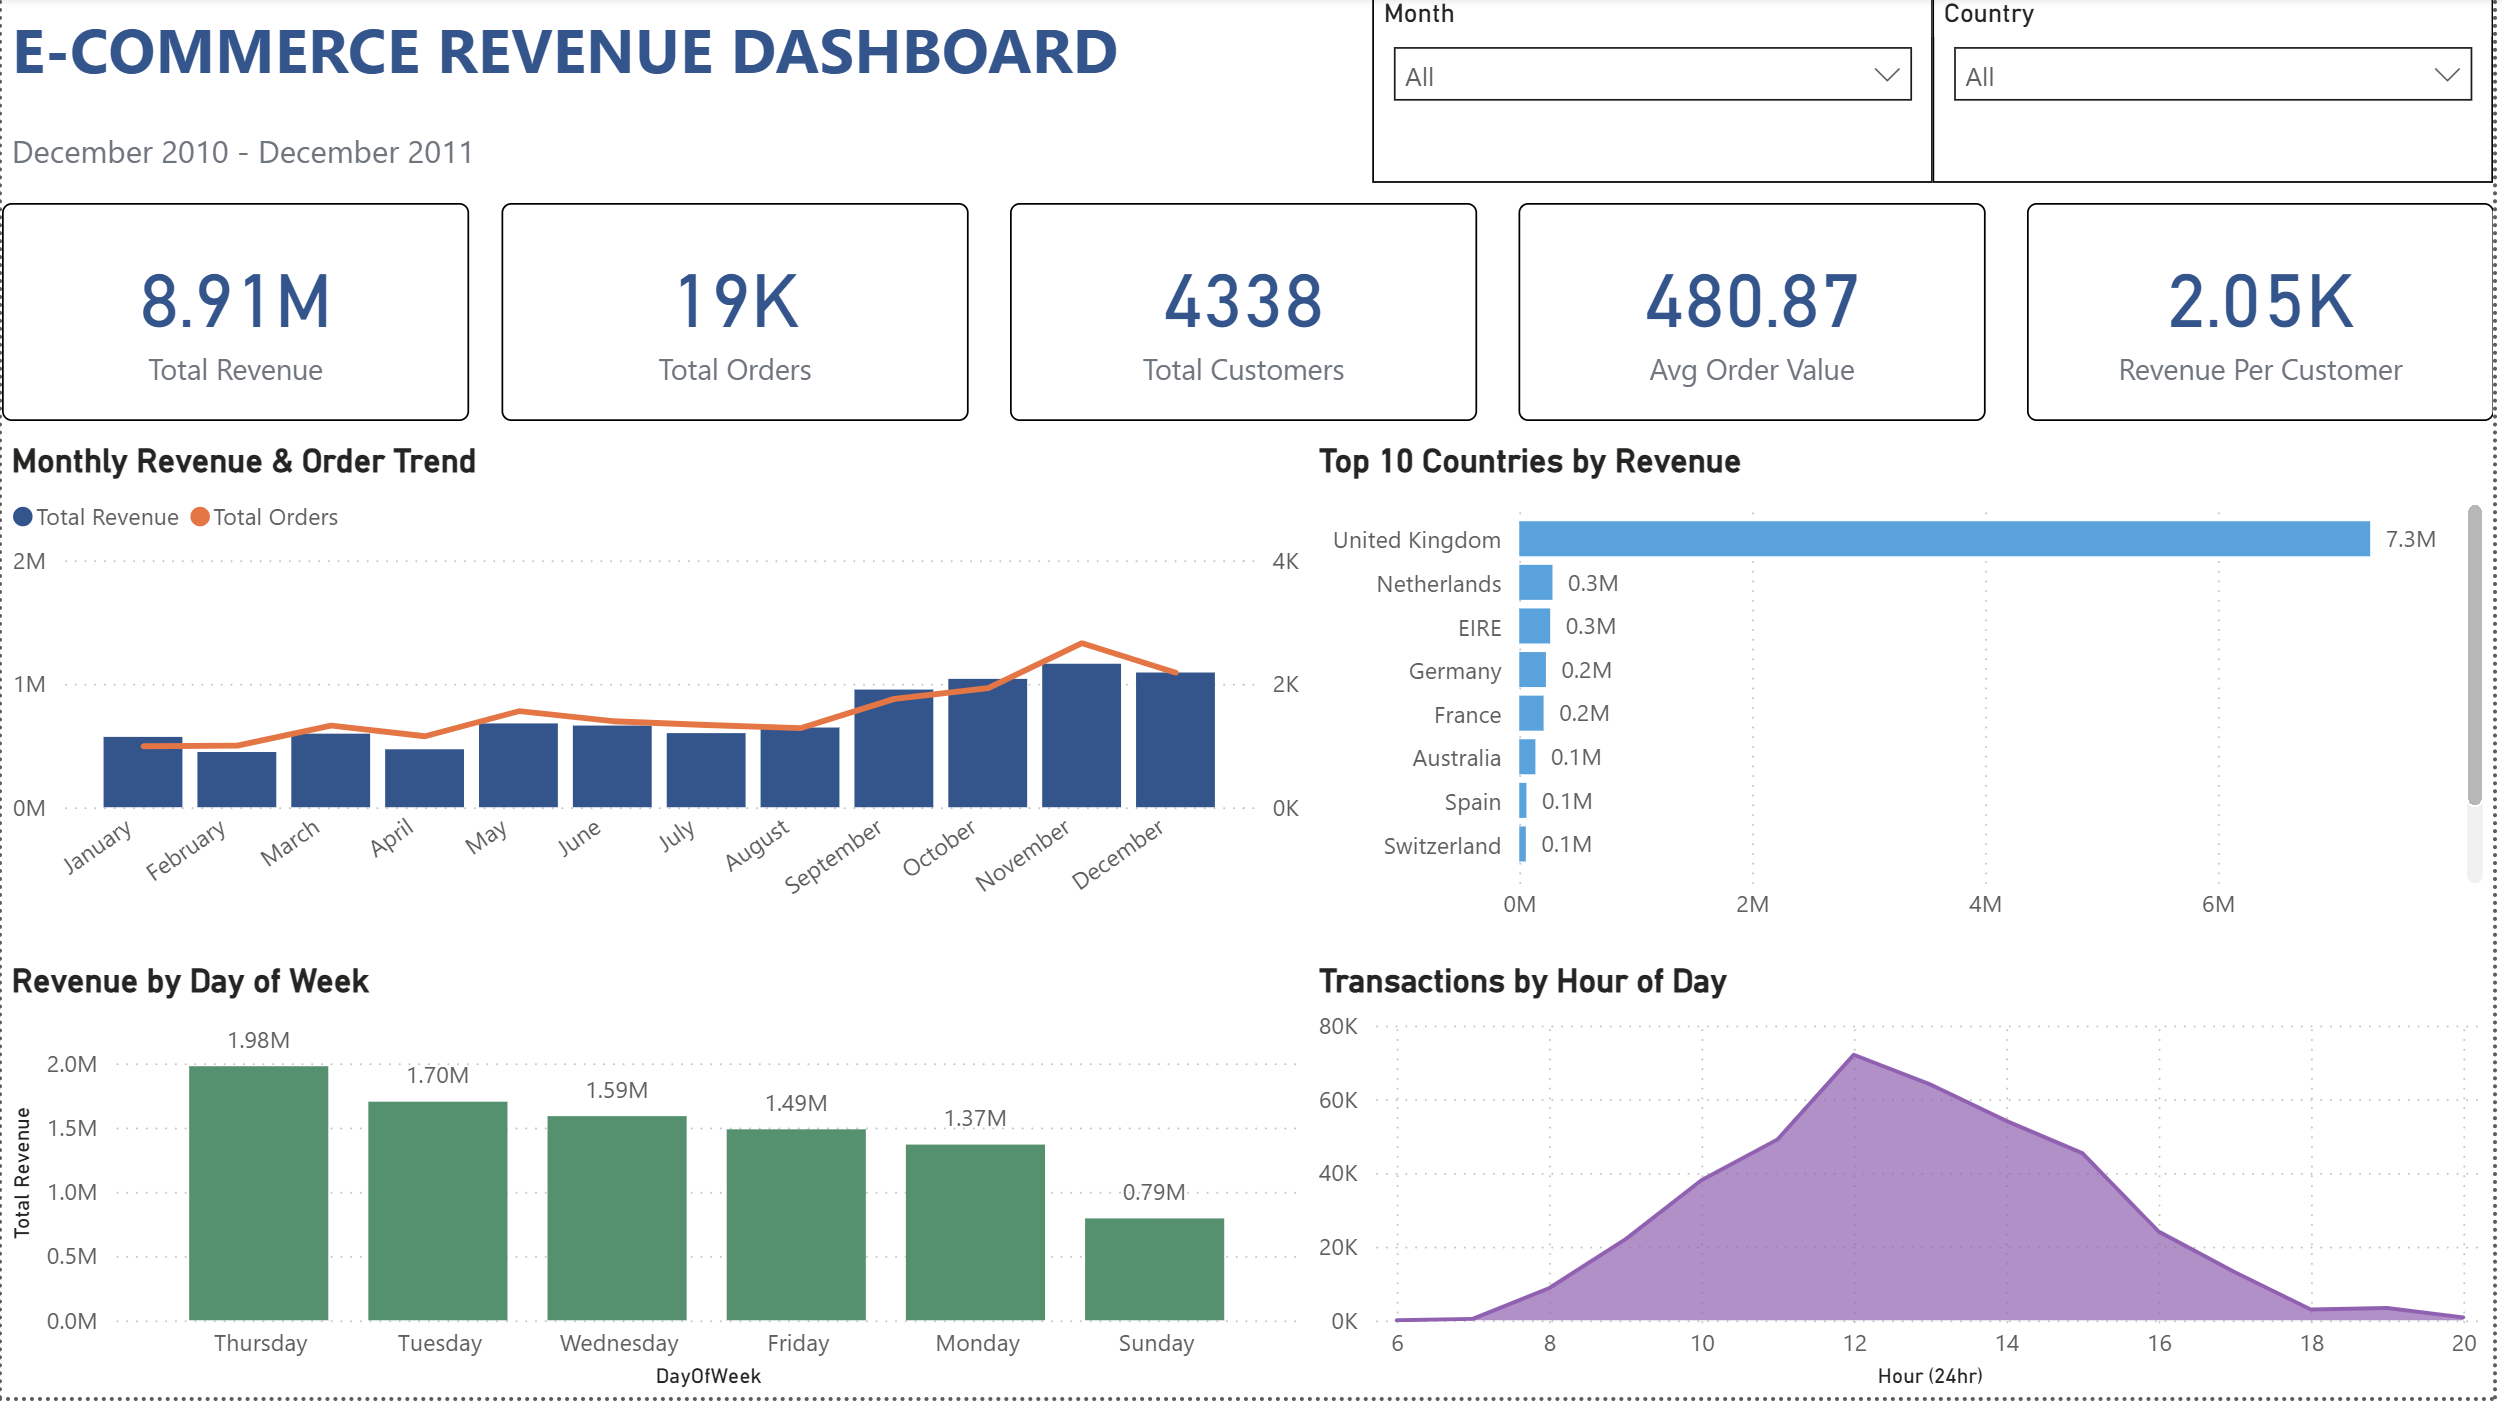

What the dashboard file says about the page in this screenshot:
{"tool":"powerbi","page":{"name":"Revenue Overview","canvas":[1280,720],"ordinal":0},"visuals":[{"type":"textbox","box":[0,0,640,64],"z":0},{"type":"textbox","box":[0,64,640,32],"z":1000},{"type":"card","fields":{"Values":["online_retail_clean.Total Revenue"]},"box":[0,106.7,240,112],"z":2000},{"type":"lineStackedColumnComboChart","title":"Monthly Revenue & Order Trend","fields":{"Category":["online_retail_clean.InvoiceDate.Variation.Date Hierarchy.Month"],"Y":["online_retail_clean.Total Revenue"],"Y2":["online_retail_clean.Total Orders"]},"box":[0,229.3,672,256],"z":3000},{"type":"card","fields":{"Values":["online_retail_clean.Total Orders"]},"box":[257,106.7,240,112],"z":4000},{"type":"barChart","title":"Top 10 Countries by Revenue","fields":{"Category":["online_retail_clean.Country"],"Y":["online_retail_clean.Total Revenue"]},"box":[672,229.3,608,256],"z":5000},{"type":"card","fields":{"Values":["online_retail_clean.Total Customers"]},"box":[518,106.7,240,112],"z":6000},{"type":"clusteredColumnChart","title":"Revenue by Day of Week","fields":{"Category":["online_retail_clean.DayOfWeek"],"Y":["online_retail_clean.Total Revenue"]},"box":[0,496,672,224],"z":7000},{"type":"card","fields":{"Values":["online_retail_clean.Avg Order Value"]},"box":[779,106.7,240,112],"z":8000},{"type":"areaChart","title":"Transactions by Hour of Day","fields":{"Y":["online_retail_clean.Total Transactions"],"Category":["online_retail_clean.InvoiceHour"]},"box":[672,496,608,224],"z":9000},{"type":"card","fields":{"Values":["online_retail_clean.Revenue Per Customer"]},"box":[1040,106.7,240,112],"z":10000},{"type":"slicer","title":"Month","fields":{"Values":["online_retail_clean.InvoiceDate.Variation.Date Hierarchy.Month"]},"box":[704,0,288,96],"z":11000},{"type":"slicer","title":"Country","fields":{"Values":["online_retail_clean.Country"]},"box":[992,0,288,96],"z":12000}]}

Visuals, with their boxes in screenshot pixels (x1, y1, x2, y2), scaled from the page's 1280x720 canvas onto the 2502x1408 screenshot:
textbox: <region>0, 0, 1251, 125</region>
textbox: <region>0, 125, 1251, 188</region>
card - online_retail_clean.Total Revenue: <region>0, 209, 469, 428</region>
"Monthly Revenue & Order Trend" lineStackedColumnComboChart: <region>0, 448, 1314, 949</region>
card - online_retail_clean.Total Orders: <region>502, 209, 971, 428</region>
"Top 10 Countries by Revenue" barChart: <region>1314, 448, 2501, 949</region>
card - online_retail_clean.Total Customers: <region>1013, 209, 1482, 428</region>
"Revenue by Day of Week" clusteredColumnChart: <region>0, 970, 1314, 1407</region>
card - online_retail_clean.Avg Order Value: <region>1523, 209, 1992, 428</region>
"Transactions by Hour of Day" areaChart: <region>1314, 970, 2501, 1407</region>
card - online_retail_clean.Revenue Per Customer: <region>2033, 209, 2501, 428</region>
"Month" slicer: <region>1376, 0, 1939, 188</region>
"Country" slicer: <region>1939, 0, 2501, 188</region>
